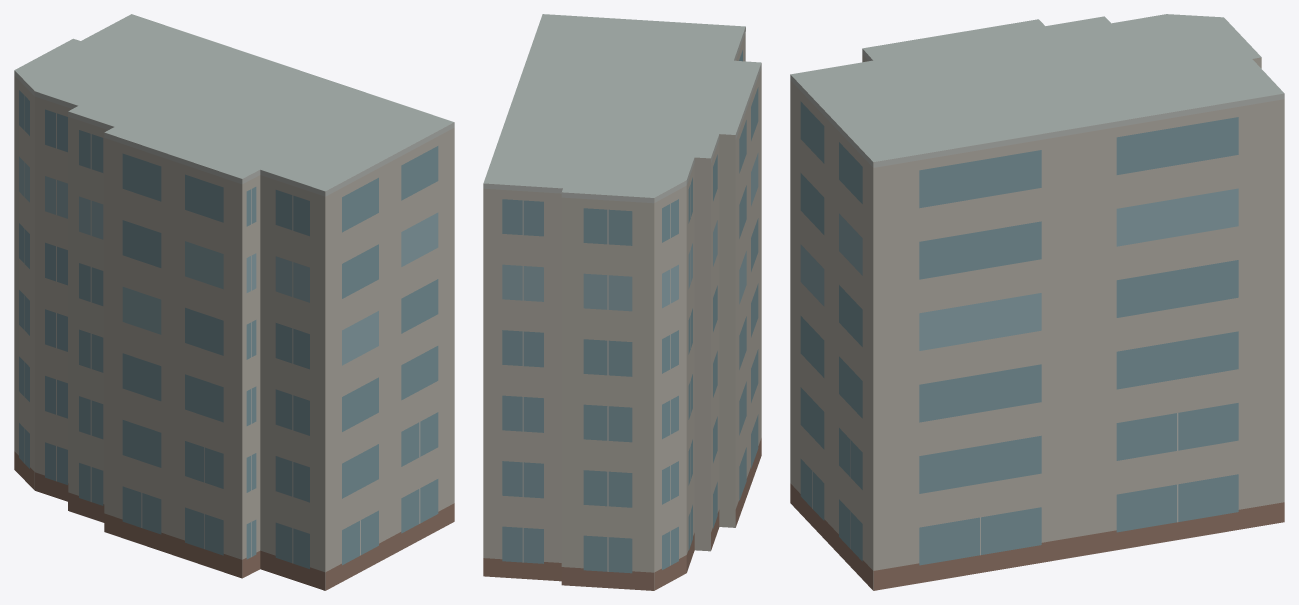
File: survey-upis-32698199.glb
3 renders of one model, left to right at view 1: azimuth 30°, elevation 25°; view 2: azimuth 150°, elevation 25°; view 3: azimuth 270°, elevation 25°, orthographic. The views are drawn at different scales.
Visible parts, largest first — view 1: survey-upis-32698199.tmp; view 2: survey-upis-32698199.tmp; view 3: survey-upis-32698199.tmp.
Boxes of the visible parts, x1,y1,x2,y2 form: survey-upis-32698199.tmp: [14, 14, 454, 590]; survey-upis-32698199.tmp: [483, 14, 761, 590]; survey-upis-32698199.tmp: [790, 14, 1284, 590].
Bounding box in the file's own units: 13.58 × 18.3 × 19.13.
